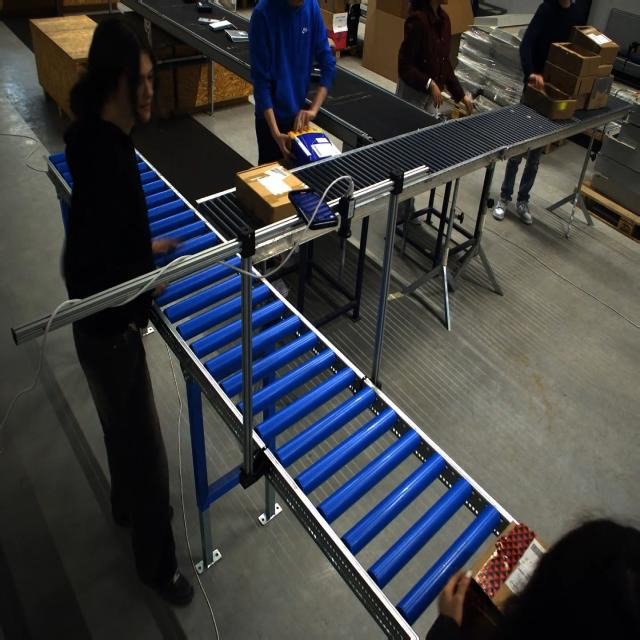box: (236, 162, 306, 226), (288, 121, 331, 161)
product: (224, 29, 249, 42), (207, 20, 234, 31), (197, 17, 224, 25), (195, 2, 212, 12)
